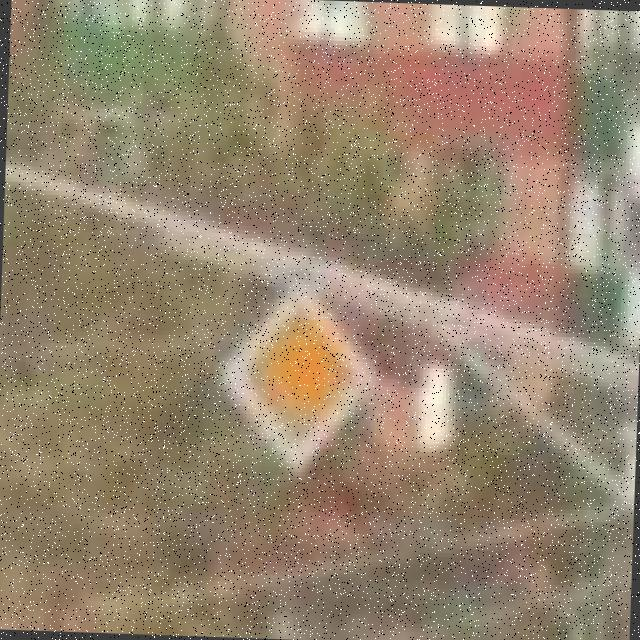Droga z pierwszenstwem: (210, 272, 382, 486)
